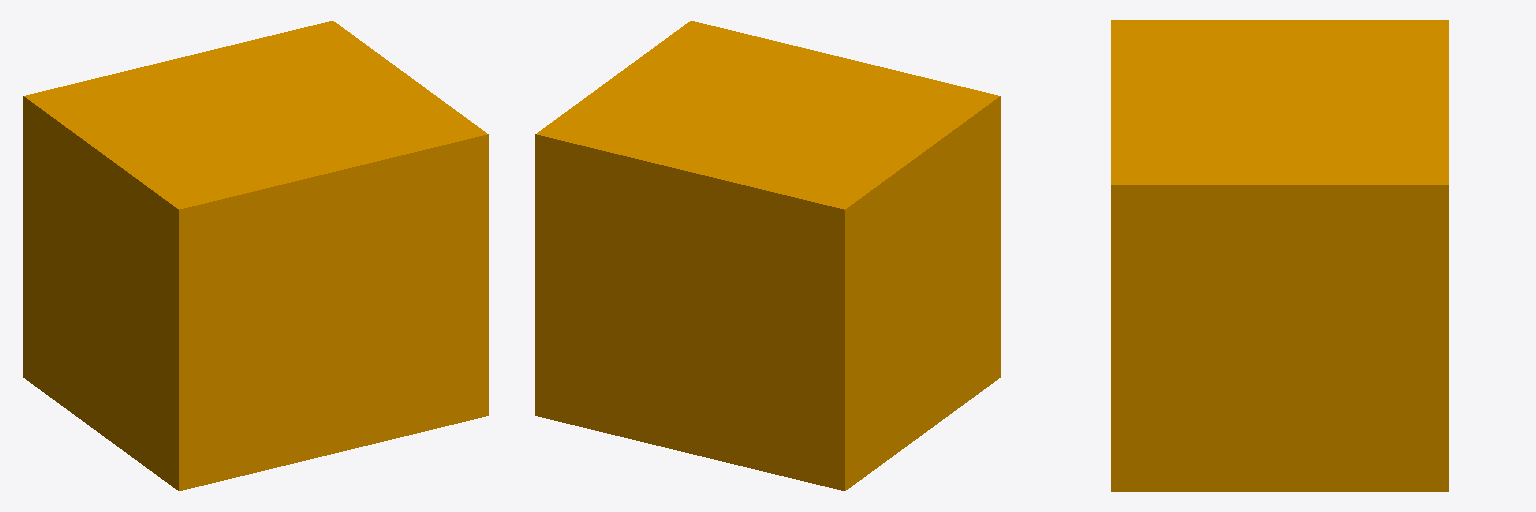
robot.urdf — object:
<robot name="object">
  <link name="object">
    <visual>
      <origin xyz="0 0 0" />
      <geometry>
        <box size="0.09200000000000003 0.08000000000000002 0.08" />
      </geometry>
    </visual>

    <collision>
      <origin xyz="0 0 0" />
      <geometry>
        <box size="0.09200000000000003 0.08000000000000002 0.08" />
      </geometry>
    </collision>

    <inertial>
      <mass value="0.05" />
      <inertia ixx="0.0001" ixy="0.0" ixz="0.0" iyy="0.0001" iyz="0.0" izz="0.0001" />
    </inertial>
  </link>
</robot>

--- Facts derived from the render (not from the file) ---
3 views of the same robot in one strip: view 1: azimuth 30°, elevation 25°; view 2: azimuth 150°, elevation 25°; view 3: azimuth 270°, elevation 25° (orthographic).
Robot: object — 1 links, 0 joints (none); root link object; default pose: all joints at 0.
Visible links, largest first — view 1: object; view 2: object; view 3: object.
Boxes of the visible links, left/top/right/bottom form: object: left=23, top=21, right=488, bottom=490; object: left=535, top=21, right=1000, bottom=490; object: left=1111, top=20, right=1448, bottom=491.
Bounding box of the posed robot: 0.092 × 0.08 × 0.08 m (x, y, z).
Geometry: primitives only (box / cylinder / sphere), no mesh files.